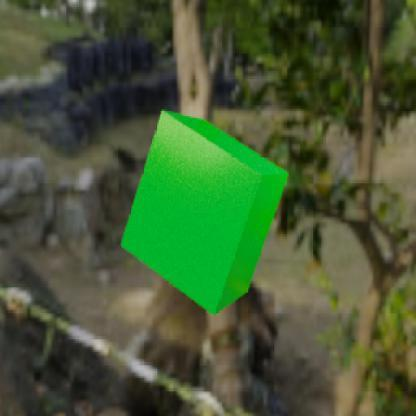cube: (119, 110, 288, 316)
